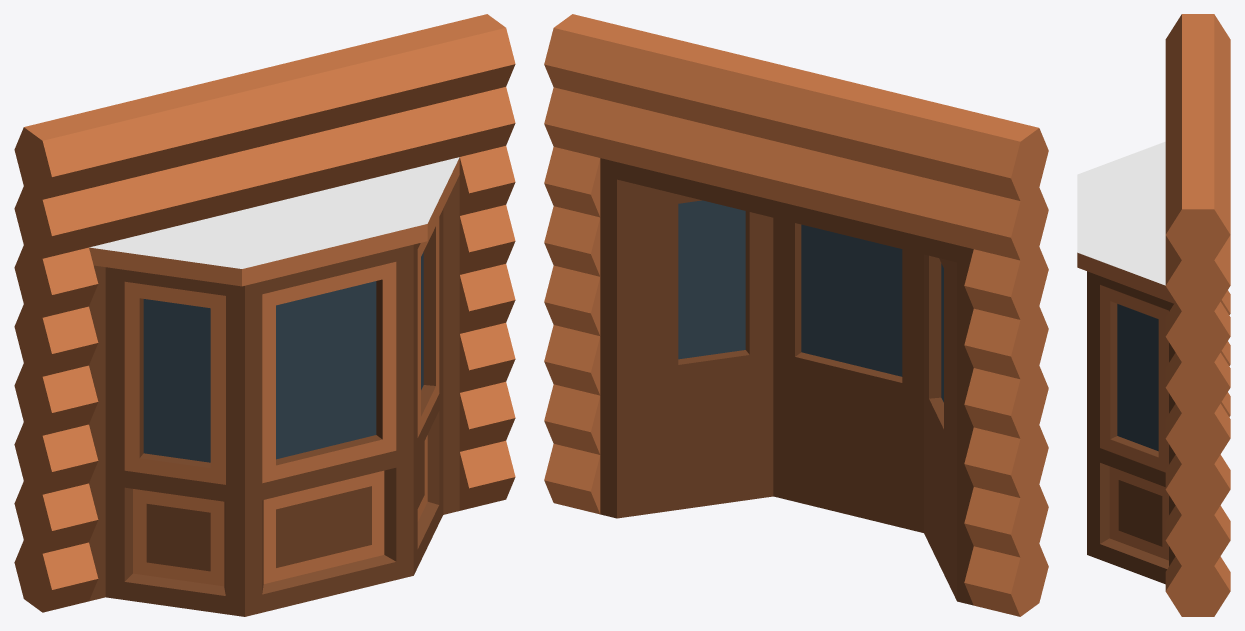
Rendered from cabinWindowLarge.fbx.
3 renders of one model, left to right at view 1: azimuth 30°, elevation 25°; view 2: azimuth 150°, elevation 25°; view 3: azimuth 270°, elevation 25°, orthographic. The views are drawn at different scales.
Visible parts, largest first — view 1: frame, cabinWindowLarge; view 2: frame, cabinWindowLarge; view 3: cabinWindowLarge, frame.
Part boxes in pixels (x1,y1,x2,y2): frame: [89, 157, 459, 616]; cabinWindowLarge: [14, 14, 515, 612]; frame: [600, 158, 973, 605]; cabinWindowLarge: [544, 14, 1048, 616]; cabinWindowLarge: [1165, 14, 1230, 616]; frame: [1077, 141, 1175, 584].
Size of the model in its own units: 10 by 9.73 by 3.31.
